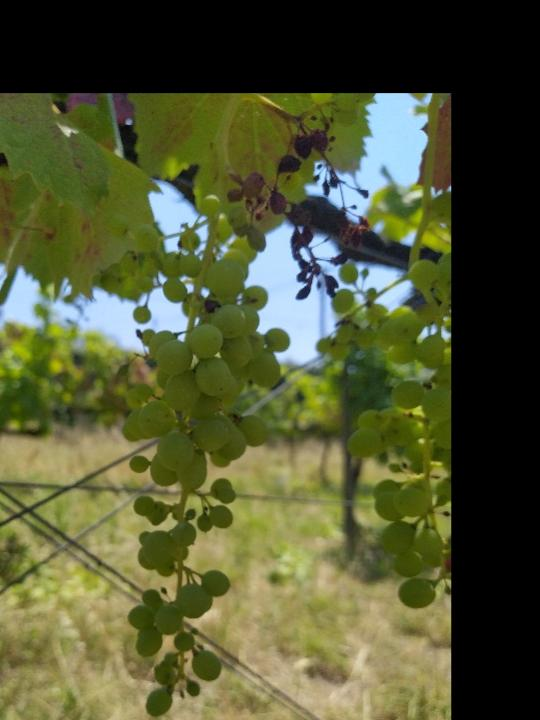grape: (111, 187, 299, 720), (226, 100, 379, 313)
